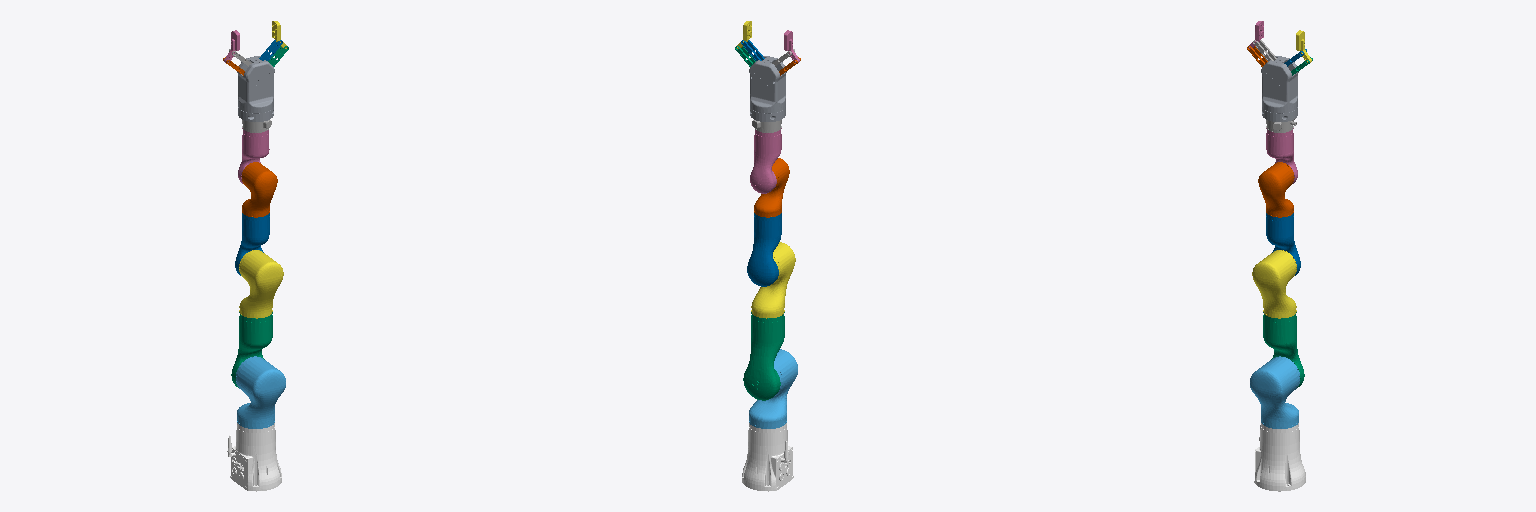
The robot description file, URDF, robot "RM75B_with_Gripper":
<?xml version="1.0" encoding="utf-8"?>
<robot name="RM75B_with_Gripper">

  <link name="base_link">
    <inertial>
      <origin xyz="0.00049987 5.2709E-05 0.060019" rpy="0 0 0" />
      <mass value="1.862" />
      <inertia ixx="0.0017232" ixy="-3.1058E-06" ixz="-3.7924E-05" iyy="0.0017051" iyz="1.3691E-06" izz="0.00090158" />
    </inertial>
    <visual>
      <geometry><mesh filename="package://RM75-B/meshes/base_link.STL" /></geometry>
      <material name=""><color rgba="1 1 1 1" /></material>
    </visual>
    <collision>
      <geometry><mesh filename="package://RM75-B/meshes/base_link.STL" /></geometry>
    </collision>
  </link>

  <link name="link_1">
    <visual><geometry><mesh filename="package://RM75-B/meshes/link_1.STL" /></geometry></visual>
  </link>
  <joint name="joint_1" type="revolute">
    <origin xyz="0 0 0.2405" rpy="0 0 0" />
    <parent link="base_link" /><child link="link_1" />
    <axis xyz="0 0 1" />
    <limit lower="-3.106" upper="3.106" effort="60" velocity="3.14" />
  </joint>

  <link name="link_2">
    <visual><geometry><mesh filename="package://RM75-B/meshes/link_2.STL" /></geometry></visual>
  </link>
  <joint name="joint_2" type="revolute">
    <origin xyz="0 0 0" rpy="-1.5708 0 0" />
    <parent link="link_1" /><child link="link_2" />
    <axis xyz="0 0 1" />
    <limit lower="-2.2689" upper="2.2689" effort="60" velocity="3.14" />
  </joint>

  <link name="link_3">
    <visual><geometry><mesh filename="package://RM75-B/meshes/link_3.STL" /></geometry></visual>
  </link>
  <joint name="joint_3" type="revolute">
    <origin xyz="0 -0.256 0" rpy="1.5708 0 0" />
    <parent link="link_2" /><child link="link_3" />
    <axis xyz="0 0 1" />
    <limit lower="-3.106" upper="3.106" effort="30" velocity="3.14" />
  </joint>

  <link name="link_4">
    <visual><geometry><mesh filename="package://RM75-B/meshes/link_4.STL" /></geometry></visual>
  </link>
  <joint name="joint_4" type="revolute">
    <origin xyz="0 0 0" rpy="-1.5708 0 0" />
    <parent link="link_3" /><child link="link_4" />
    <axis xyz="0 0 1" />
    <limit lower="-2.356" upper="2.356" effort="30" velocity="3.14" />
  </joint>

  <link name="link_5">
    <visual><geometry><mesh filename="package://RM75-B/meshes/link_5.STL" /></geometry></visual>
  </link>
  <joint name="joint_5" type="revolute">
    <origin xyz="0 -0.21 0" rpy="1.5708 0 0" />
    <parent link="link_4" /><child link="link_5" />
    <axis xyz="0 0 1" />
    <limit lower="-3.106" upper="3.106" effort="10" velocity="3.14" />
  </joint>

  <link name="link_6">
    <visual><geometry><mesh filename="package://RM75-B/meshes/link_6.STL" /></geometry></visual>
  </link>
  <joint name="joint_6" type="revolute">
    <origin xyz="0 0 0" rpy="-1.5708 0 0" />
    <parent link="link_5" /><child link="link_6" />
    <axis xyz="0 0 1" />
    <limit lower="-2.234" upper="2.234" effort="10" velocity="3.14" />
  </joint>

  <link name="link_7">
    <inertial>
      <origin xyz="0.001094 -0.000077 -0.010119" rpy="0 0 0" />
      <mass value="0.107" />
      <inertia ixx="0.000044123" ixy="-0.000000064" ixz="0.0000003" iyy="0.000035078" iyz="-0.000000029" izz="0.000065445" />
    </inertial>
    <visual>
      <geometry><mesh filename="package://RM75-B/meshes/link_7.STL" /></geometry>
    </visual>
    <collision>
      <geometry><mesh filename="package://RM75-B/meshes/link_7.STL" /></geometry>
    </collision>
  </link>
  <joint name="joint_7" type="revolute">
    <origin xyz="0 -0.144 0" rpy="1.5708 0 0" />
    <parent link="link_6" /><child link="link_7" />
    <axis xyz="0 0 1" />
    <limit lower="-6.28" upper="6.28" effort="10" velocity="3.14" />
  </joint>

  <joint name="arm_gripper_joint" type="fixed">
    <origin xyz="0 0 0" rpy="0 0 0" />
    <parent link="link_7" />
    <child link="gripper_base" />
  </joint>

  <link name="gripper_base" />

  <link name="gripper_base_link">
    <visual>
      <geometry><mesh filename="package://crt_ctag2f90d_gripper_visualization/meshes/base_link.STL" /></geometry>
      <material name=""><color rgba="0.615686274509804 0.63921568627451 0.674509803921569 1" /></material>
    </visual>
    <collision>
      <geometry><mesh filename="package://crt_ctag2f90d_gripper_visualization/meshes/base_link.STL" /></geometry>
    </collision>
  </link>

  <joint name="gripper_base_link_Joint" type="fixed">
    <origin xyz="0 0 0" rpy="0 0 0" />
    <parent link="gripper_base" />
    <child link="gripper_base_link" />
  </joint>

  <link name="gripper_Left_1_Link">
    <visual><geometry><mesh filename="package://crt_ctag2f90d_gripper_visualization/meshes/Left_1_Link.STL" /></geometry></visual>
  </link>
  <joint name="gripper_Left_1_Joint" type="revolute">
    <origin xyz="0.030141 0 0.10415" rpy="1.5708 0 0" />
    <parent link="gripper_base_link" /><child link="gripper_Left_1_Link" />
    <axis xyz="0 0 -1" />
    <limit lower="-0.91" upper="0" effort="10" velocity="10" />
  </joint>

  <link name="gripper_Left_Support_Link">
    <visual><geometry><mesh filename="package://crt_ctag2f90d_gripper_visualization/meshes/Left_Support_Link.STL" /></geometry></visual>
  </link>
  <joint name="gripper_Left_Support_Joint" type="revolute">
    <origin xyz="0.040359 0.037365 0" rpy="0 0 0" />
    <parent link="gripper_Left_1_Link" /><child link="gripper_Left_Support_Link" />
    <axis xyz="0 0 -1" />
    <limit lower="-3.14" upper="3.14" effort="10" velocity="10" />
    <mimic joint="gripper_Left_1_Joint" multiplier="-1" offset="0" />
  </joint>

  <link name="gripper_Left_2_Link">
    <visual><geometry><mesh filename="package://crt_ctag2f90d_gripper_visualization/meshes/Left_2_Link.STL" /></geometry></visual>
  </link>
  <joint name="gripper_Left_2_Joint" type="revolute">
    <origin xyz="0.016 0 0.121" rpy="1.5708 0 0" />
    <parent link="gripper_base_link" /><child link="gripper_Left_2_Link" />
    <axis xyz="0 0 -1" />
    <limit lower="-3.14" upper="3.14" effort="10" velocity="10" />
    <mimic joint="gripper_Left_1_Joint" multiplier="1" offset="0" />
  </joint>

  <link name="gripper_Right_1_Link">
    <visual><geometry><mesh filename="package://crt_ctag2f90d_gripper_visualization/meshes/Right_1_Link.STL" /></geometry></visual>
  </link>
  <joint name="gripper_Right_1_Joint" type="revolute">
    <origin xyz="-0.030141 0 0.10415" rpy="1.5708 0 3.1416" />
    <parent link="gripper_base_link" /><child link="gripper_Right_1_Link" />
    <axis xyz="0 0 1" />
    <limit lower="-3.14" upper="3.14" effort="10" velocity="10" />
    <mimic joint="gripper_Left_1_Joint" multiplier="-1" offset="0" />
  </joint>

  <link name="gripper_Right_Support_Link">
    <visual><geometry><mesh filename="package://crt_ctag2f90d_gripper_visualization/meshes/Right_Support_Link.STL" /></geometry></visual>
  </link>
  <joint name="gripper_Right_Support_Joint" type="revolute">
    <origin xyz="0.040359 0.037365 0" rpy="0 0 0" />
    <parent link="gripper_Right_1_Link" /><child link="gripper_Right_Support_Link" />
    <axis xyz="0 0 -1" />
    <limit lower="-3.14" upper="3.14" effort="10" velocity="10" />
    <mimic joint="gripper_Left_1_Joint" multiplier="-1" offset="0" />
  </joint>

  <link name="gripper_Right_2_Link">
    <visual><geometry><mesh filename="package://crt_ctag2f90d_gripper_visualization/meshes/Right_2_Link.STL" /></geometry></visual>
  </link>
  <joint name="gripper_Right_2_Joint" type="revolute">
    <origin xyz="-0.016 0 0.121" rpy="1.5708 0 3.1416" />
    <parent link="gripper_base_link" /><child link="gripper_Right_2_Link" />
    <axis xyz="0 0 1" />
    <limit lower="-3.14" upper="3.14" effort="10" velocity="10" />
    <mimic joint="gripper_Left_1_Joint" multiplier="-1" offset="0" />
  </joint>

</robot>

--- What the picture shows (computed from the rendered views, not written in the file) ---
3 views of the same robot in one strip: view 1: azimuth 30°, elevation 25°; view 2: azimuth 150°, elevation 25°; view 3: azimuth 330°, elevation 25° (orthographic).
Robot: RM75B_with_Gripper — 16 links, 15 joints (13 revolute, 2 fixed); root link base_link; default pose: all joints at 0.
Visible links, largest first — view 1: base_link, link_1, link_3, gripper_base_link, link_5, link_2, link_4, link_6; view 2: base_link, link_2, gripper_base_link, link_4, link_1, link_3, link_6, link_5; view 3: base_link, link_1, link_3, gripper_base_link, link_5, link_2, link_4, link_6.
Link boxes in pixels (bbox=[...]): base_link: bbox=[227, 423, 281, 491]; link_1: bbox=[236, 356, 285, 428]; link_3: bbox=[239, 250, 283, 318]; gripper_base_link: bbox=[237, 56, 274, 121]; link_5: bbox=[241, 162, 277, 217]; link_2: bbox=[231, 312, 272, 387]; link_4: bbox=[235, 213, 269, 275]; link_6: bbox=[238, 128, 269, 183]; base_link: bbox=[742, 423, 793, 491]; link_2: bbox=[743, 312, 784, 400]; gripper_base_link: bbox=[749, 56, 786, 121]; link_4: bbox=[747, 213, 781, 286]; link_1: bbox=[749, 349, 797, 428]; link_3: bbox=[751, 242, 795, 318]; link_6: bbox=[750, 128, 781, 193]; link_5: bbox=[754, 158, 789, 217]; base_link: bbox=[1254, 423, 1305, 491]; link_1: bbox=[1250, 356, 1299, 428]; link_3: bbox=[1252, 250, 1296, 318]; gripper_base_link: bbox=[1261, 56, 1298, 121]; link_5: bbox=[1258, 162, 1294, 217]; link_2: bbox=[1263, 312, 1304, 387]; link_4: bbox=[1266, 213, 1300, 275]; link_6: bbox=[1266, 128, 1297, 183].
Bounding box of the posed robot: 0.151 × 0.123 × 1.06 m (x, y, z).
15 mesh visuals loaded from 15 distinct referenced files (15 binary STL).